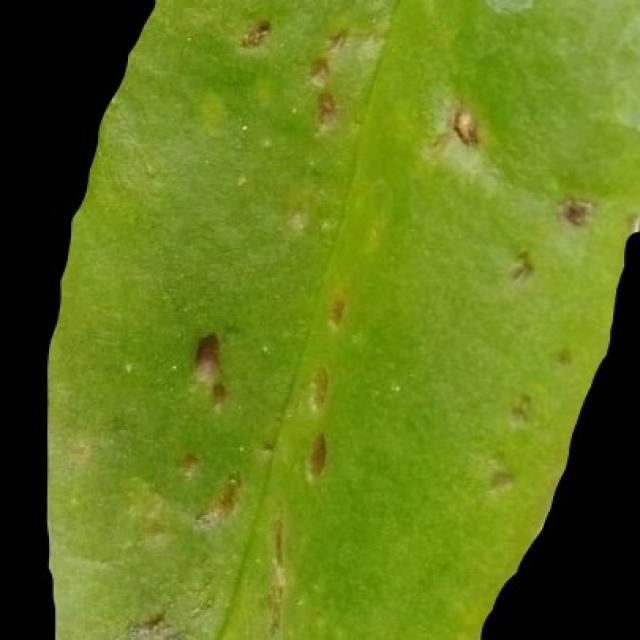mite: (224, 0, 635, 284), (231, 6, 485, 155), (430, 93, 600, 284), (232, 6, 352, 130), (425, 88, 498, 168), (191, 329, 223, 381), (303, 363, 330, 414), (479, 0, 537, 16), (307, 52, 332, 81), (254, 17, 272, 35)
sunburn: (442, 100, 485, 155)
